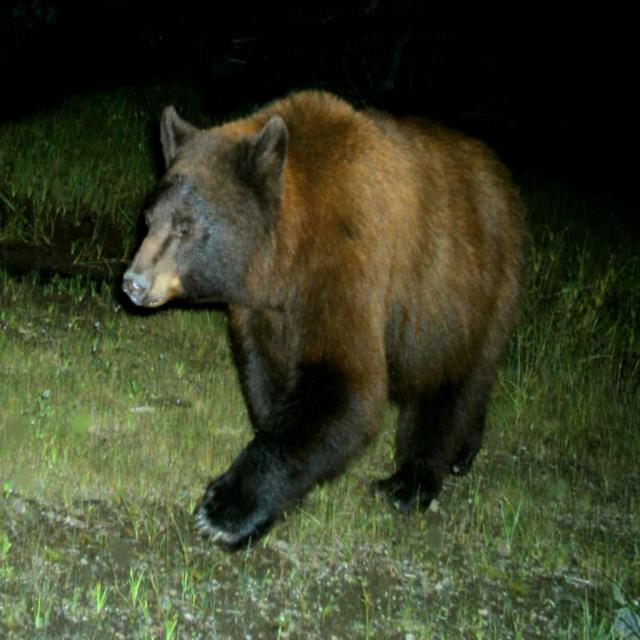Bear: (119, 89, 532, 553)
